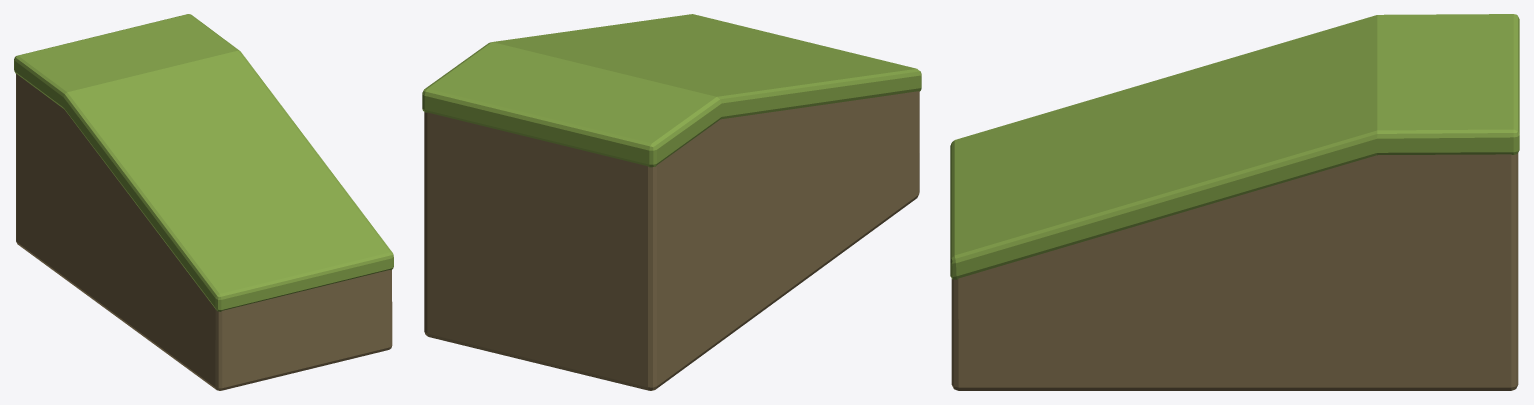
The model's file is SM_Platform_2m_04_A_Ramp.fbx.
The picture shows the model from 3 angles, left to right: view 1: azimuth 30°, elevation 25°; view 2: azimuth 150°, elevation 25°; view 3: azimuth 270°, elevation 25°; orthographic projection. The views are drawn at different scales.
Parts seen in each view (by area): view 1: polySurface95; view 2: polySurface95; view 3: polySurface95.
Part boxes in pixels (x1,y1,x2,y2): polySurface95: (14, 14, 393, 390); polySurface95: (422, 14, 921, 390); polySurface95: (950, 14, 1519, 390).
Size of the model in its own units: 202 by 205 by 403.
